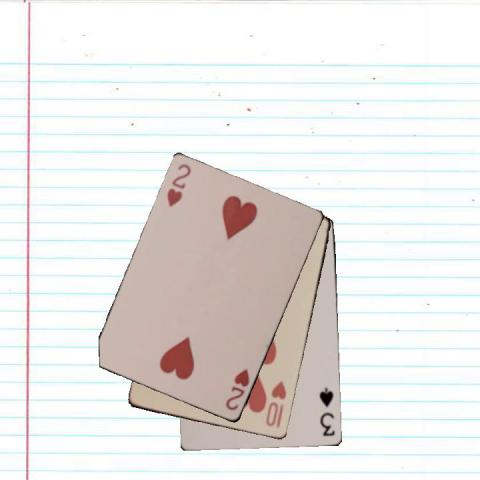10h: (263, 378, 288, 429)
2h: (164, 162, 193, 210), (223, 366, 251, 413)
3s: (317, 385, 336, 438)
